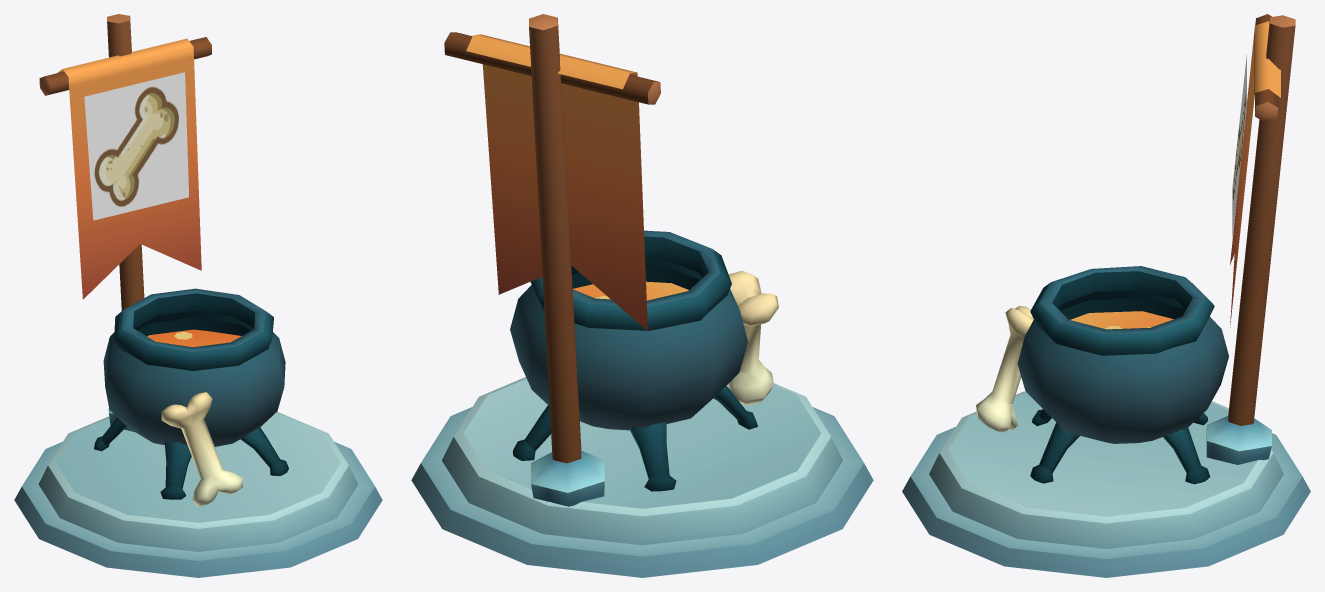
The model's file is env_Currency_Bowl_Bones_v01.fbx.
3 views of the same model, side by side, from view 1: azimuth 30°, elevation 25°; view 2: azimuth 150°, elevation 25°; view 3: azimuth 270°, elevation 25° (orthographic). The views are drawn at different scales.
Visible parts, largest first — view 1: Bowl_for_Currency_1_Bones, Flag_bone, Flag_bone.001, Loot_Bone.001; view 2: Bowl_for_Currency_1_Bones, Flag_bone, Loot_Bone.001; view 3: Bowl_for_Currency_1_Bones, Flag_bone, Loot_Bone.001, Flag_bone.001.
Boxes of the visible parts, <box> form: Bowl_for_Currency_1_Bones: <box>14,288,382,577</box>; Flag_bone: <box>39,14,211,431</box>; Flag_bone.001: <box>84,72,188,220</box>; Loot_Bone.001: <box>161,392,242,506</box>; Bowl_for_Currency_1_Bones: <box>411,230,873,577</box>; Flag_bone: <box>444,14,660,506</box>; Loot_Bone.001: <box>728,270,778,405</box>; Bowl_for_Currency_1_Bones: <box>902,266,1310,577</box>; Flag_bone: <box>1206,14,1295,464</box>; Loot_Bone.001: <box>976,305,1033,432</box>; Flag_bone.001: <box>1232,54,1246,237</box>.
Size of the model in its own units: 375 by 478 by 375.
